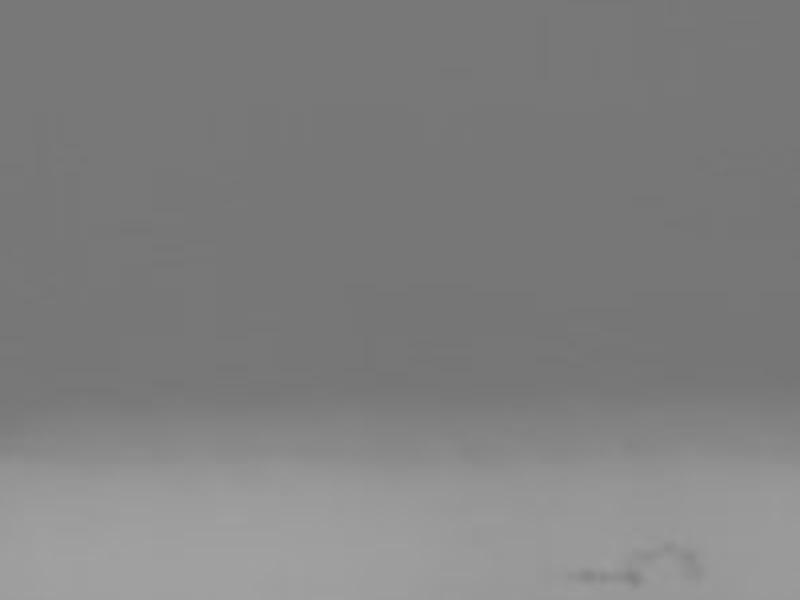defect: (679, 549, 704, 582), (617, 567, 642, 589), (574, 565, 596, 582), (659, 537, 677, 556)
